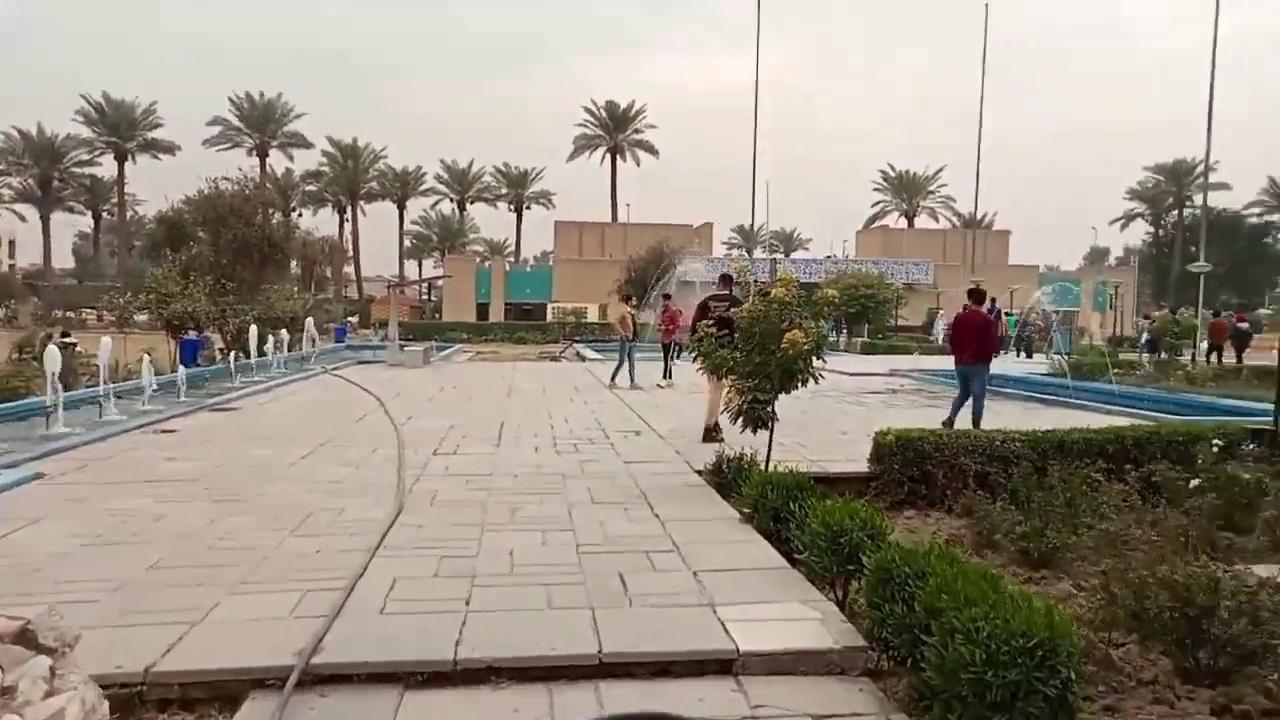fountain: (3, 312, 462, 442), (892, 277, 1277, 425), (889, 355, 1276, 424), (38, 340, 82, 436), (90, 334, 126, 421)
person: (688, 272, 744, 443), (940, 286, 999, 429), (608, 293, 639, 388), (654, 292, 682, 388), (1204, 309, 1229, 366), (986, 296, 1002, 357), (931, 308, 946, 345)
tree: (688, 266, 838, 472), (174, 171, 304, 352), (69, 88, 181, 288), (201, 88, 314, 286), (0, 119, 101, 280), (102, 255, 224, 373), (315, 134, 388, 301), (1141, 154, 1219, 309), (565, 96, 659, 222), (201, 88, 314, 184), (1108, 176, 1178, 308), (365, 162, 432, 292), (473, 160, 556, 263), (66, 172, 145, 278), (607, 236, 686, 341), (860, 160, 956, 229), (817, 269, 902, 339), (1240, 172, 1279, 308), (285, 226, 346, 297), (407, 206, 480, 265), (720, 220, 773, 298), (427, 156, 489, 220), (140, 200, 199, 264), (475, 236, 515, 322), (263, 164, 308, 223), (956, 209, 996, 273), (720, 221, 771, 258), (1241, 172, 1279, 220), (941, 198, 997, 230), (766, 225, 812, 257), (476, 236, 514, 264)
